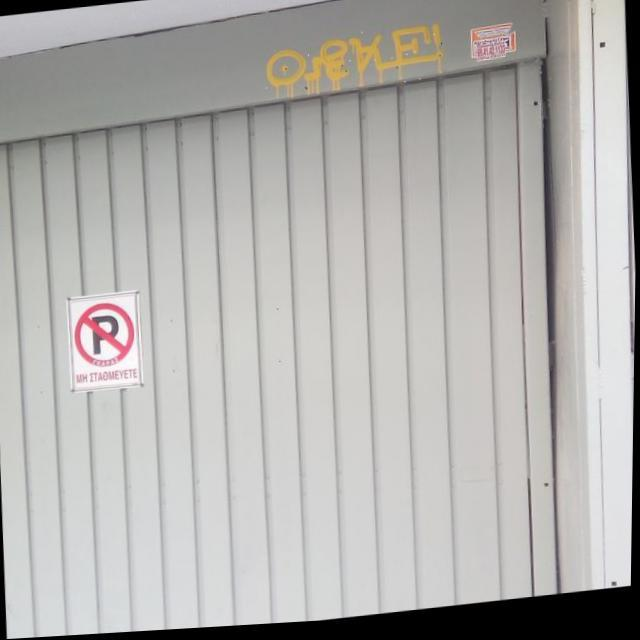-: (262, 28, 448, 104)
